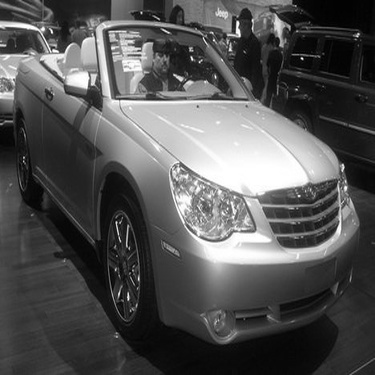car: (7, 15, 366, 348), (3, 20, 53, 139)
